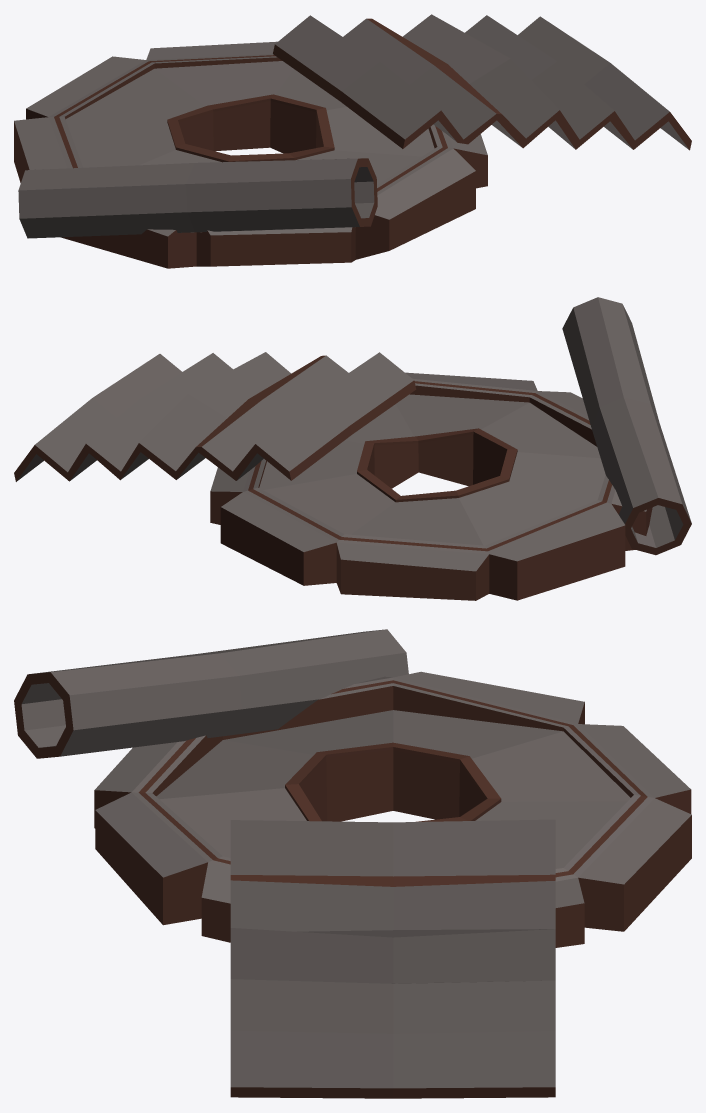
Rendered from Col_Rusty_Metal_v1.fbx.
3 renders of one model, top to bottom at view 1: azimuth 30°, elevation 25°; view 2: azimuth 150°, elevation 25°; view 3: azimuth 270°, elevation 25°, orthographic. The views are drawn at different scales.
Visible parts, largest first — view 1: Col_Rusty_Metal; view 2: Col_Rusty_Metal; view 3: Col_Rusty_Metal.
Boxes of the visible parts, left/top/right/bottom form: Col_Rusty_Metal: left=14, top=14, right=691, bottom=268; Col_Rusty_Metal: left=14, top=297, right=691, bottom=600; Col_Rusty_Metal: left=14, top=629, right=691, bottom=1098.
Size of the model in its own units: 29.91 by 6.55 by 22.47.
